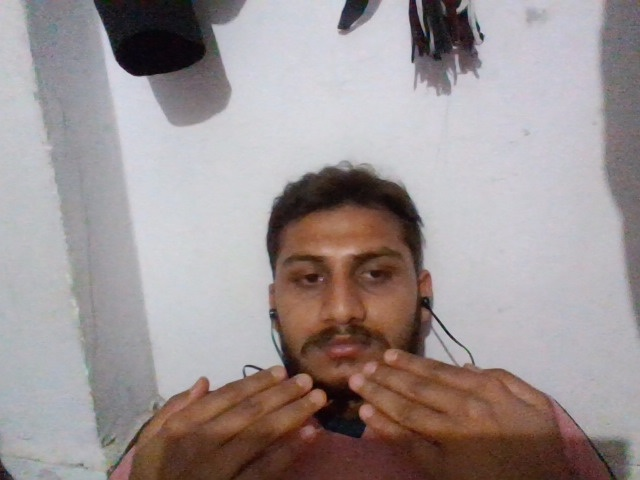Thanks: (116, 328, 571, 480)
